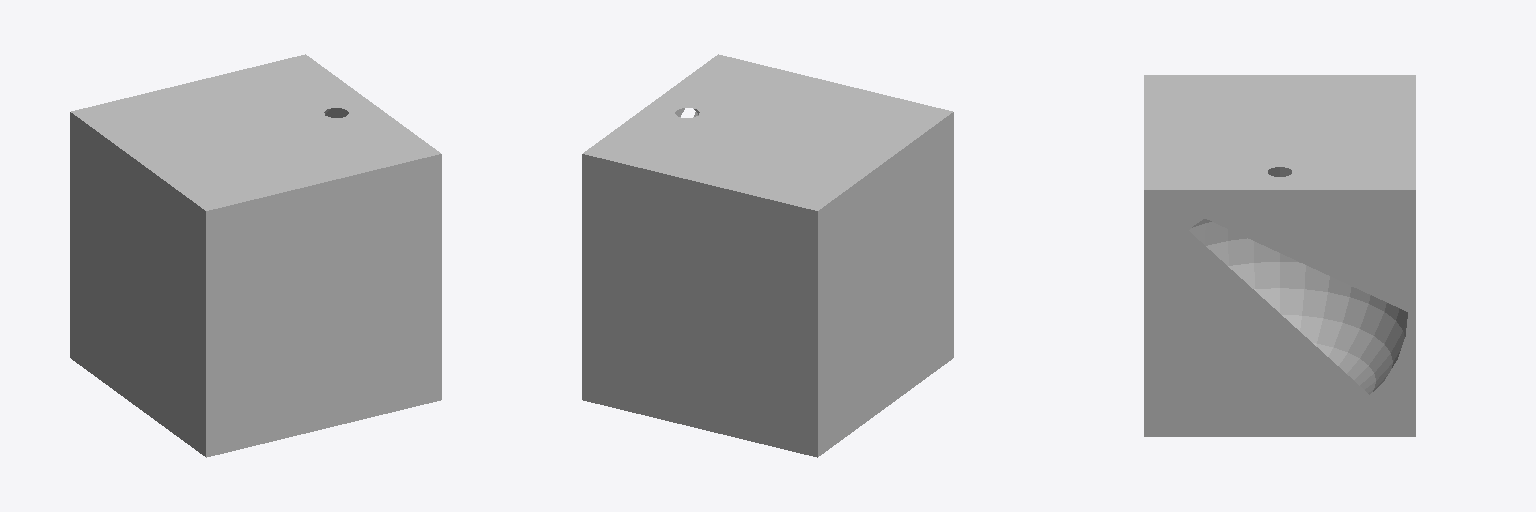
Rendered from ballContainer.obj.
3 views of the same model, side by side, from view 1: azimuth 30°, elevation 25°; view 2: azimuth 150°, elevation 25°; view 3: azimuth 270°, elevation 25° (orthographic).
Parts seen in each view (by area): view 1: Cube_Cube.007; view 2: Cube_Cube.007; view 3: Cube_Cube.007.
Part boxes in pixels (left/top/right/bottom): Cube_Cube.007: left=70, top=54, right=441, bottom=457; Cube_Cube.007: left=582, top=54, right=953, bottom=457; Cube_Cube.007: left=1144, top=75, right=1415, bottom=436.
Bounding box in the file's own units: 2 × 2 × 2.